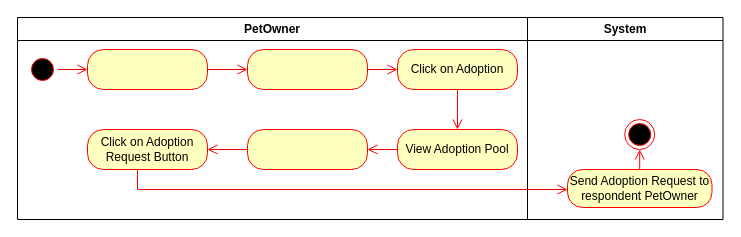
The diagram is 741 pixels wide and 237 high, and some of its shapes have lost their labels. The shapes that lost their labels are listed below. From the top down, each one's centre as x and y in pixels, then its label:
(147,69): Login
(307,69): View Dashboard
(307,149): Select Pet
